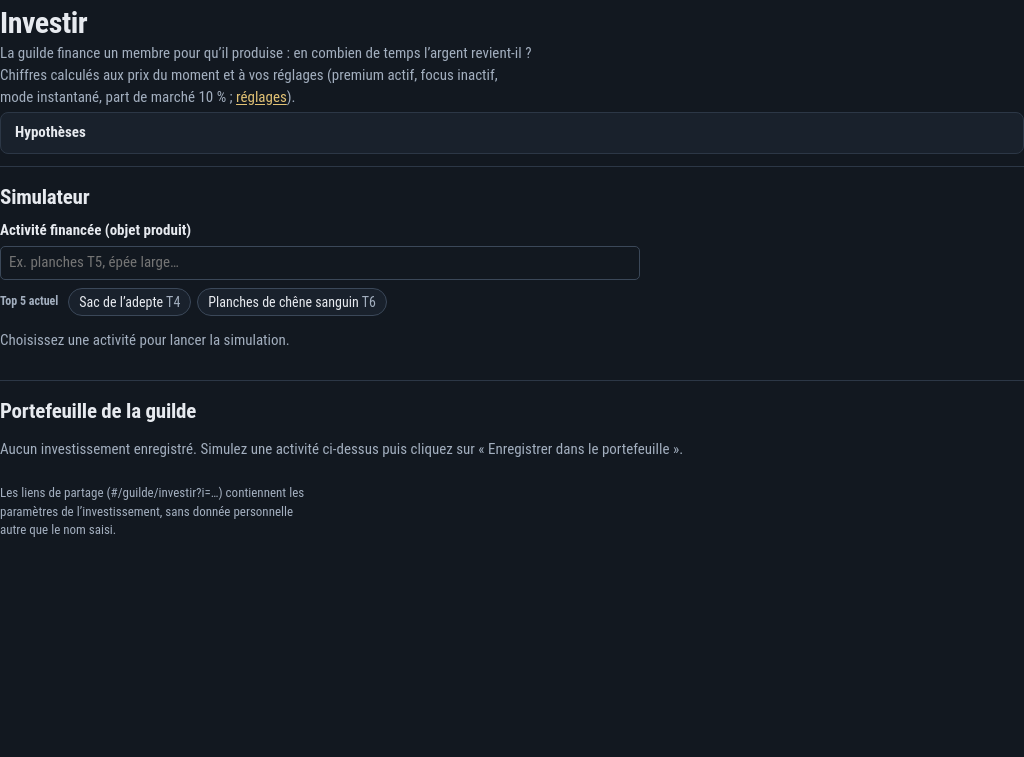
Test: page Investir — simulateur › famille sans données de montée : le dire
Click the button "Sac de l’adepte T4".
click(130, 302)  # box [68, 288, 191, 316]
(page scrolled)
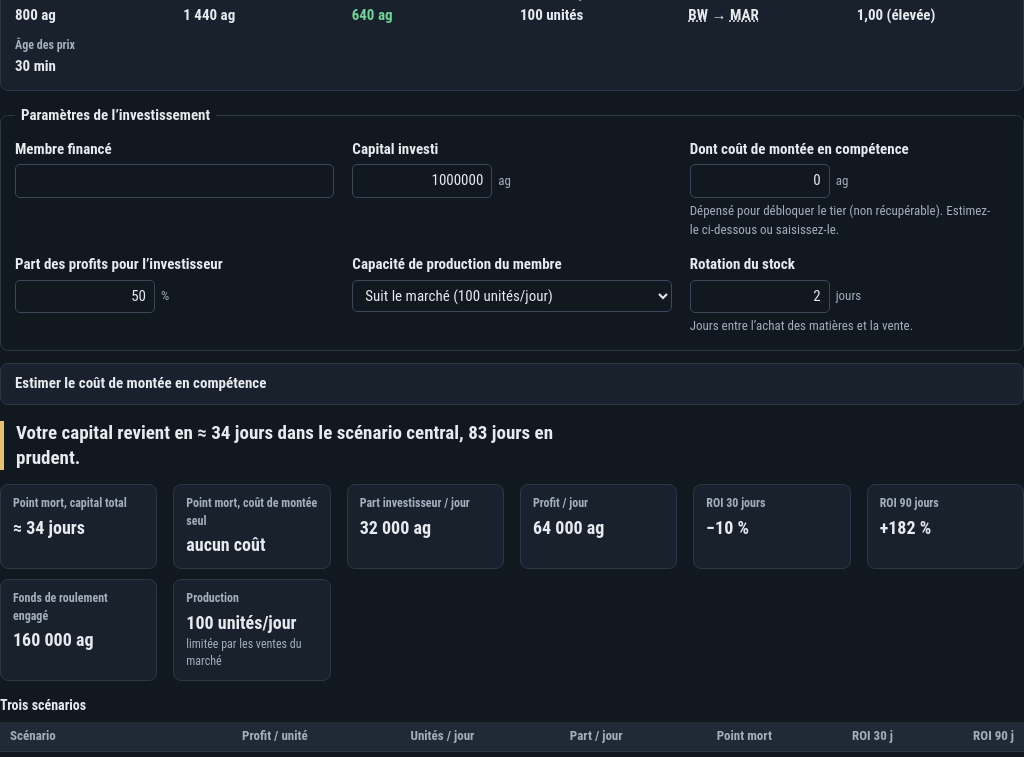
Click the heading "Estimer le coût de montée en compétence".
click(141, 383)  # box [15, 374, 266, 392]
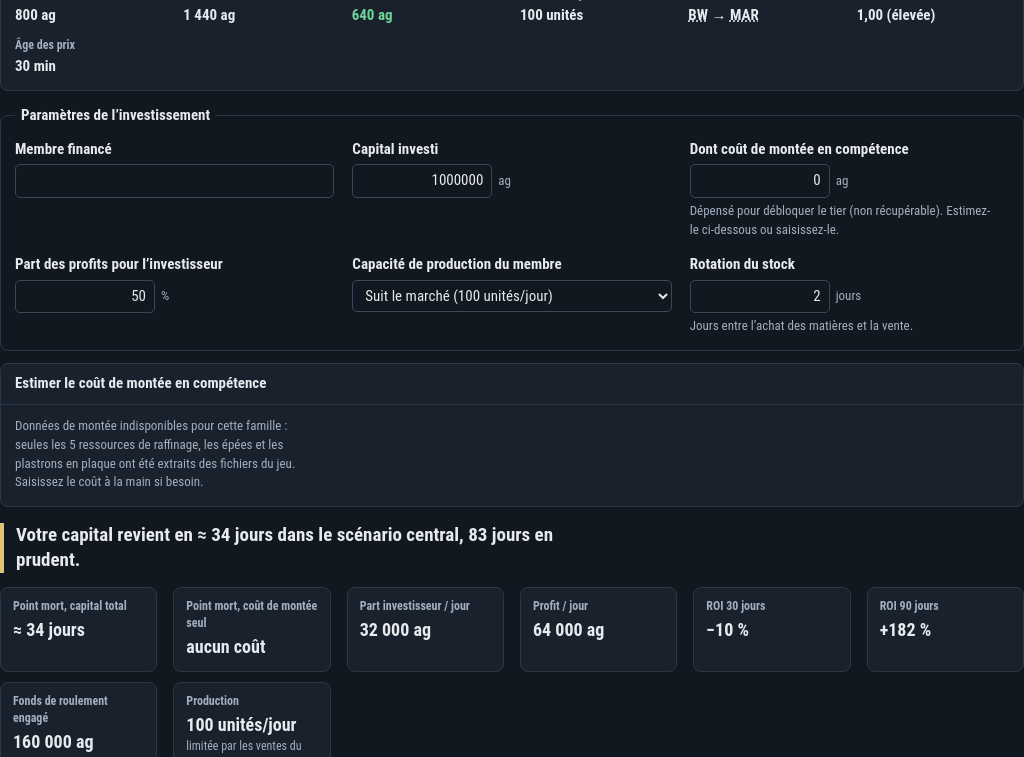
Now the text "Données de montée indisponibles" is shown, box [15, 418, 295, 489]
